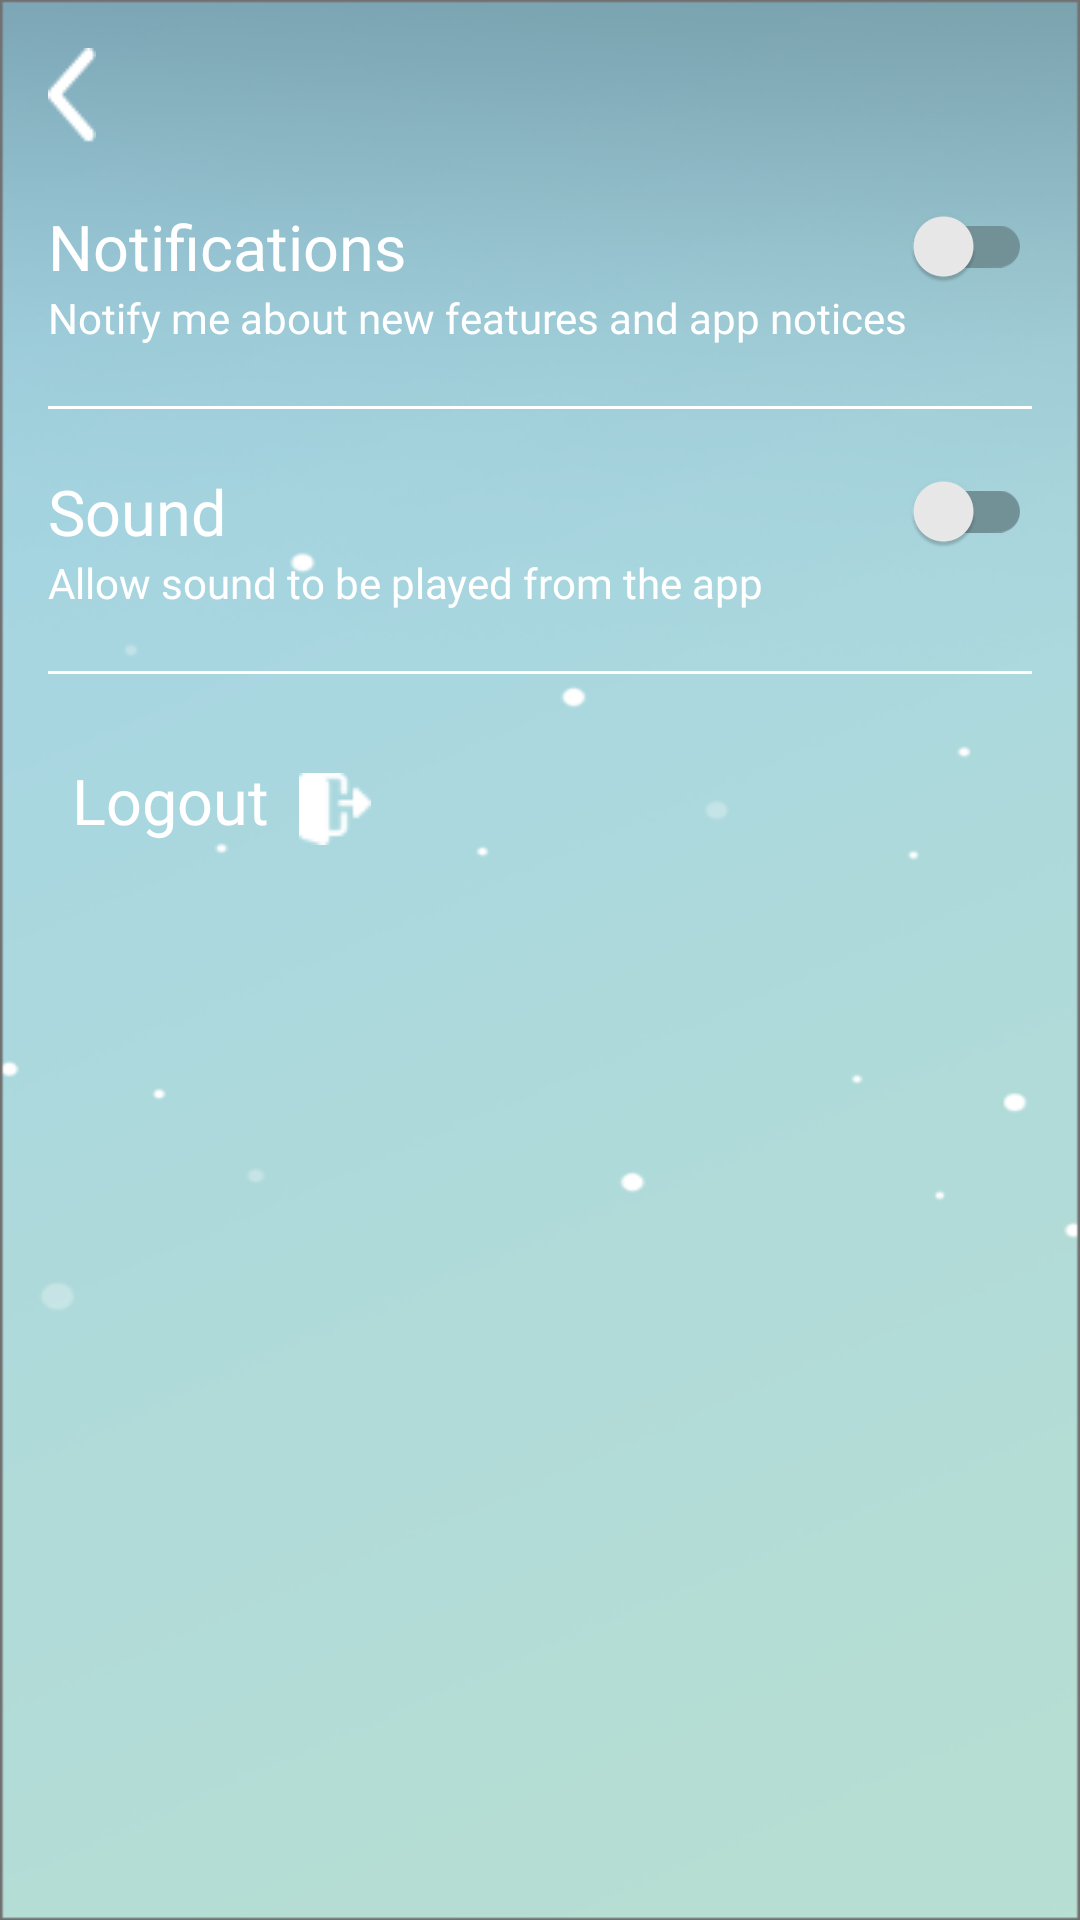

Icons on this 1080 × 1920 Android screen, each with the point to tap as (x,y):
arrow back: (72,95)
